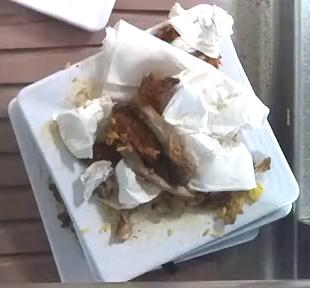ribs: (94, 74, 196, 186)
